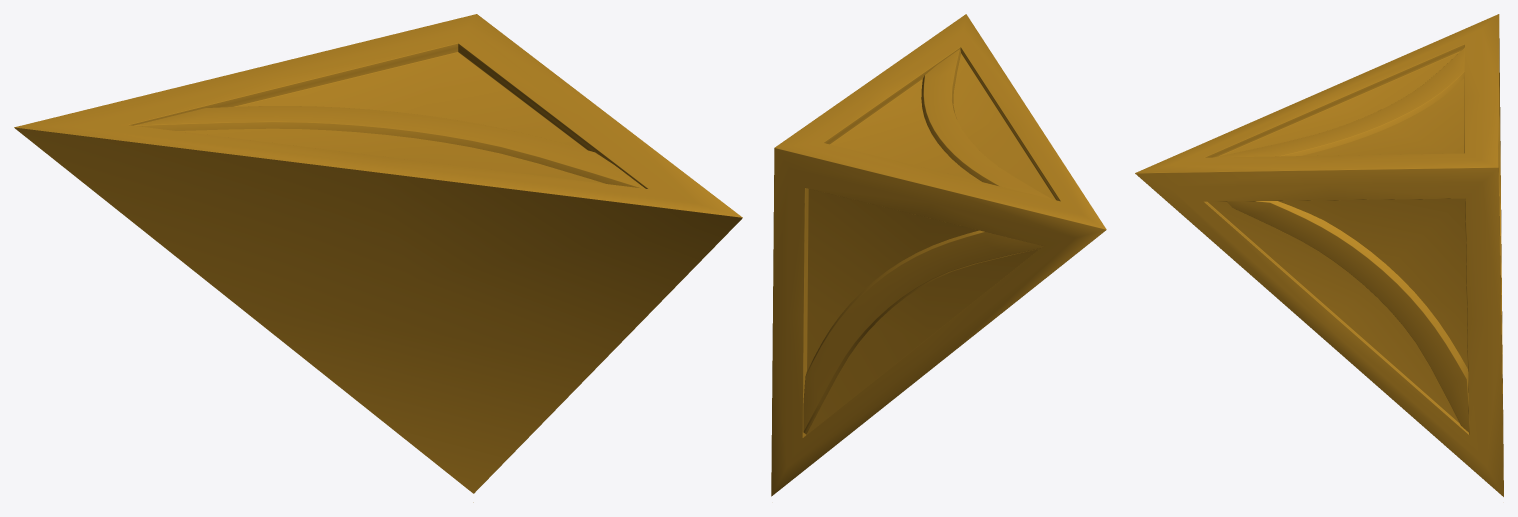
File: Holocron_Esquina_07.obj
3 renders of one model, left to right at view 1: azimuth 30°, elevation 25°; view 2: azimuth 150°, elevation 25°; view 3: azimuth 270°, elevation 25°, orthographic. The views are drawn at different scales.
Parts seen in each view (by area): view 1: Holocron_Esquina_07; view 2: Holocron_Esquina_07; view 3: Holocron_Esquina_07.
Boxes of the visible parts, x1=… form: Holocron_Esquina_07: x1=14, y1=14, x2=742, y2=502; Holocron_Esquina_07: x1=771, y1=14, x2=1106, y2=496; Holocron_Esquina_07: x1=1135, y1=14, x2=1503, y2=496.
Size of the model in its own units: 5.18 by 5.22 by 5.2.
